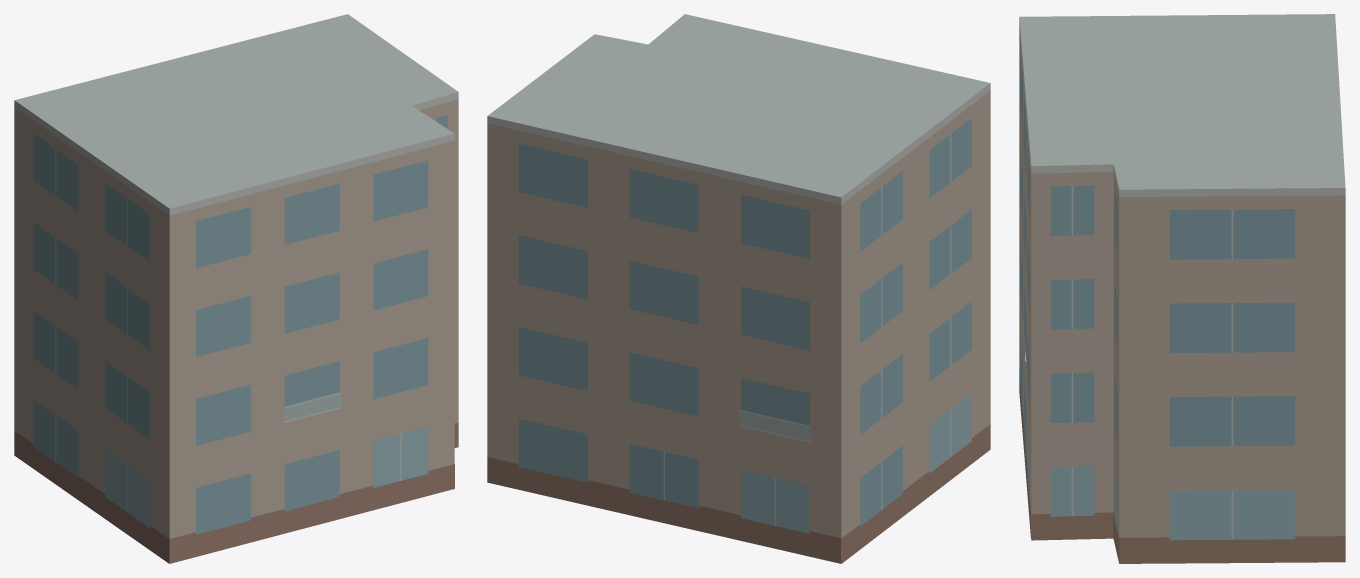
The model's file is survey-upis-33023698.glb.
The picture shows the model from 3 angles, left to right: view 1: azimuth 30°, elevation 25°; view 2: azimuth 150°, elevation 25°; view 3: azimuth 270°, elevation 25°; orthographic projection. The views are drawn at different scales.
Parts seen in each view (by area): view 1: survey-upis-33023698.tmp; view 2: survey-upis-33023698.tmp; view 3: survey-upis-33023698.tmp.
Part boxes in pixels (x1,y1,x2,y2): survey-upis-33023698.tmp: (14,14,458,563); survey-upis-33023698.tmp: (487,14,990,563); survey-upis-33023698.tmp: (1019,14,1345,563).
Size of the model in its own units: 12.29 by 12.2 by 9.65.
